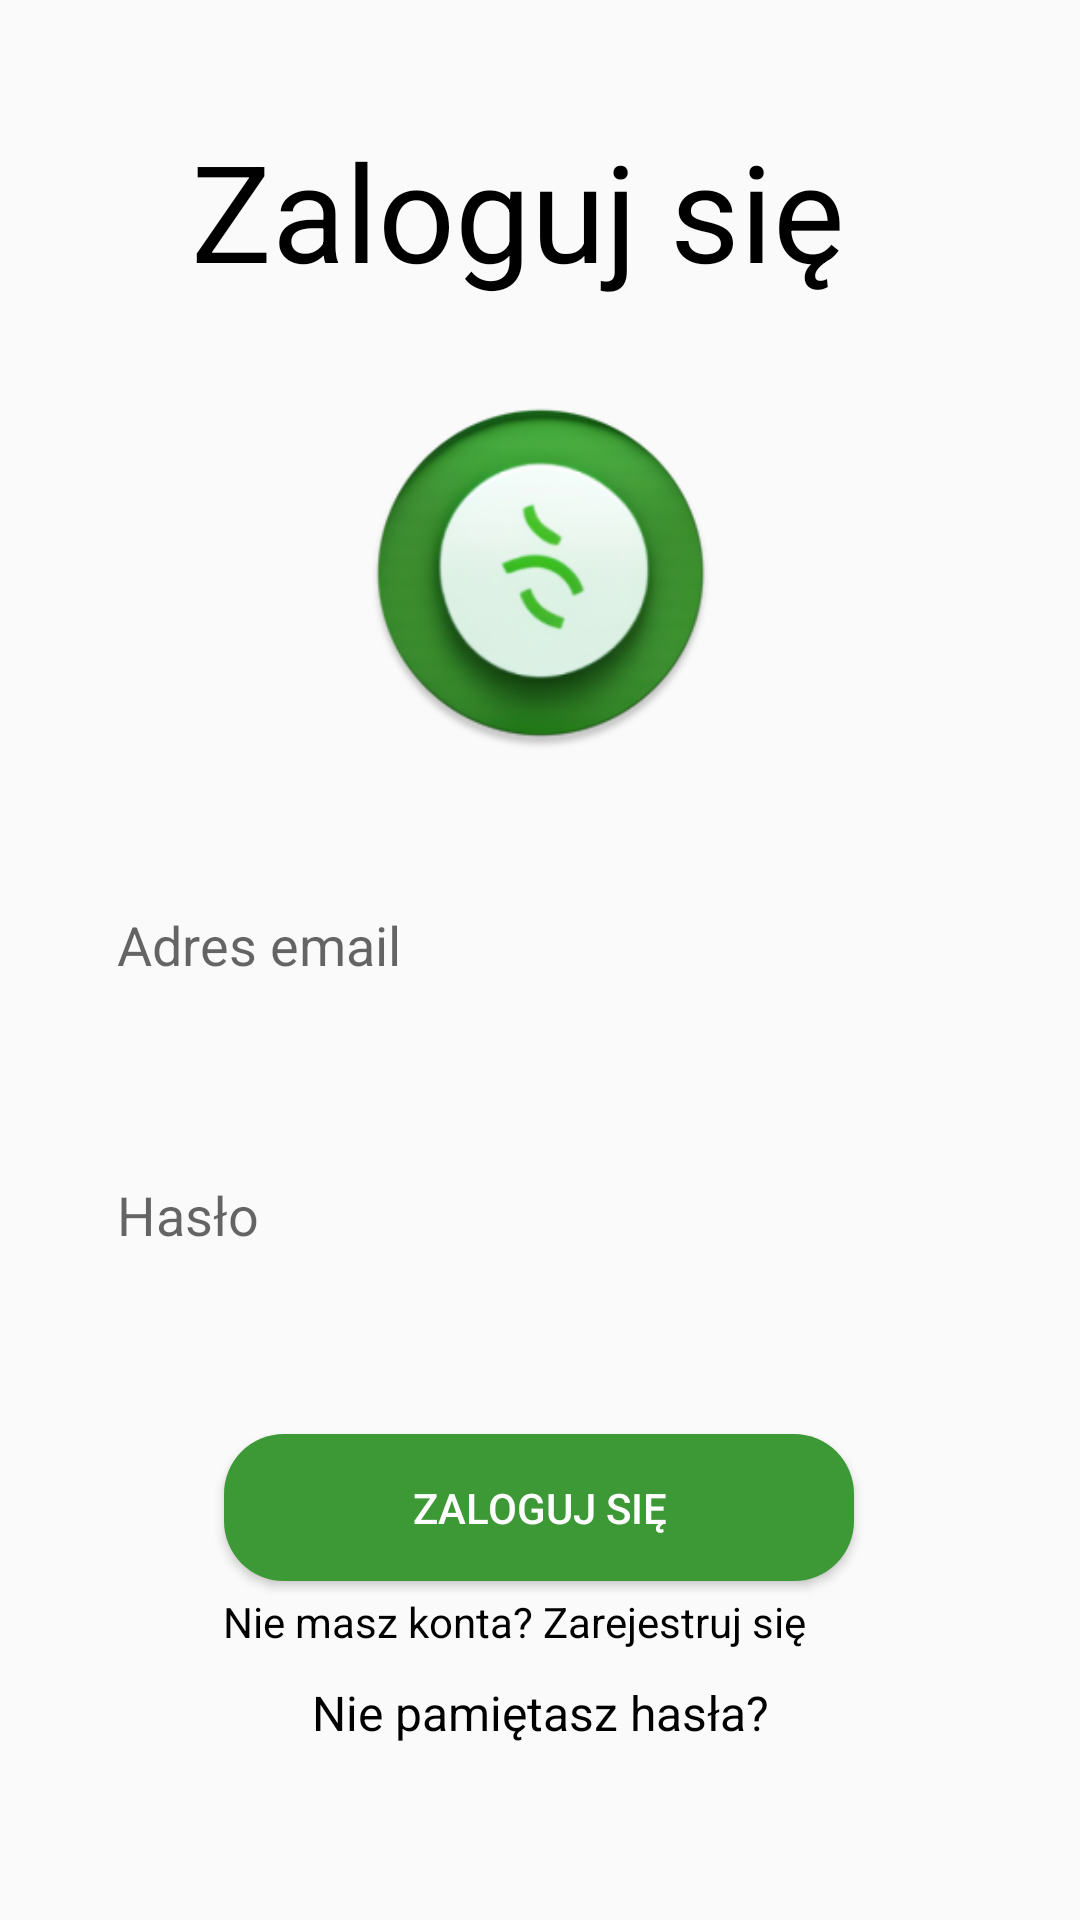

Icons on this 1080w x 1920h Android screen, each with the point to tap as point (x, y):
round: point (540, 576)
